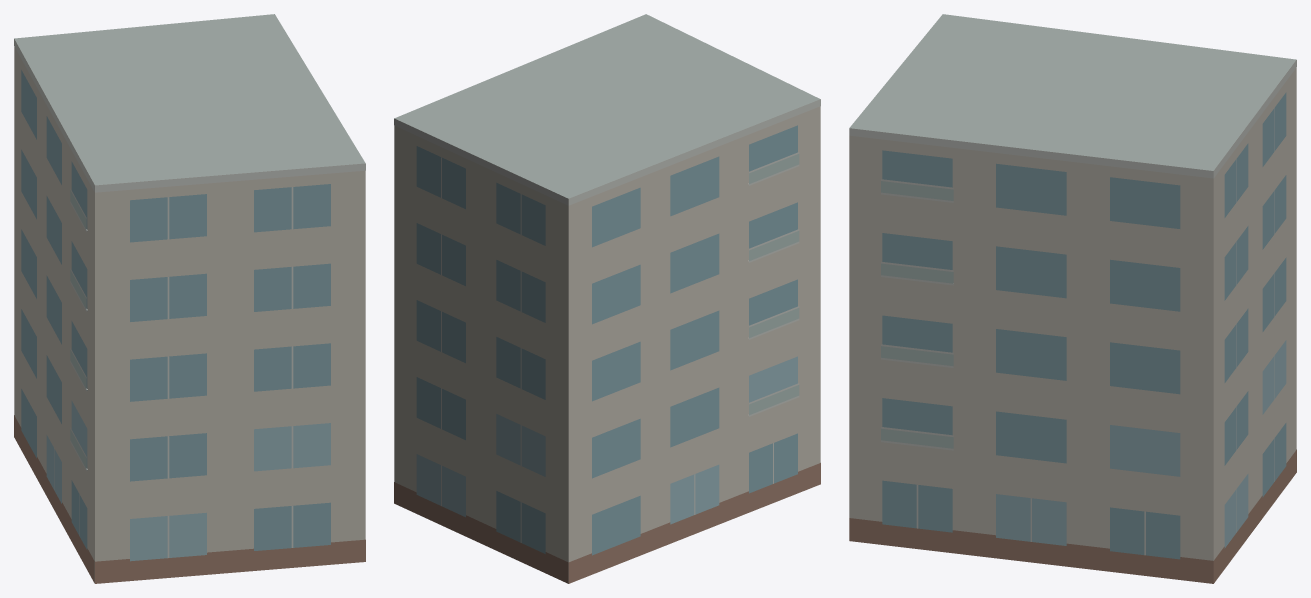
The model's file is survey-upis-33038104.glb.
3 renders of one model, left to right at view 1: azimuth 30°, elevation 25°; view 2: azimuth 150°, elevation 25°; view 3: azimuth 270°, elevation 25°, orthographic. The views are drawn at different scales.
Visible parts, largest first — view 1: survey-upis-33038104.tmp; view 2: survey-upis-33038104.tmp; view 3: survey-upis-33038104.tmp.
Part boxes in pixels (<box>): survey-upis-33038104.tmp: <box>14,14,365,583</box>; survey-upis-33038104.tmp: <box>394,14,820,583</box>; survey-upis-33038104.tmp: <box>849,14,1296,583</box>.
Size of the model in its own units: 10.94 by 13.4 by 13.18.
